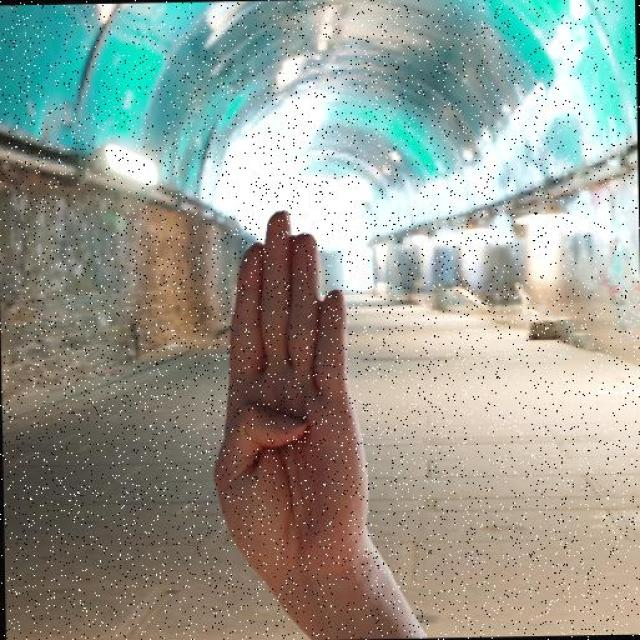B: (212, 202, 376, 622)
